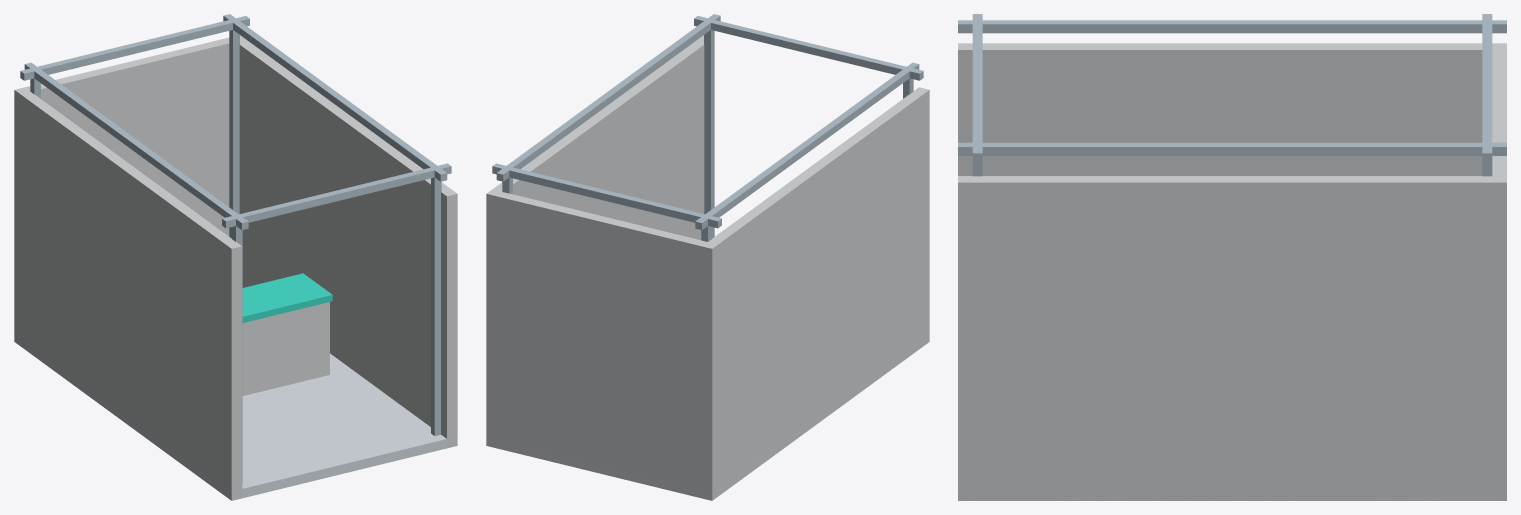
The picture shows the model from 3 angles, left to right: view 1: azimuth 30°, elevation 25°; view 2: azimuth 150°, elevation 25°; view 3: azimuth 270°, elevation 25°; orthographic projection. The views are drawn at different scales.
Parts seen in each view (by area): view 1: Exhibition Booth Concept; view 2: Exhibition Booth Concept; view 3: Exhibition Booth Concept.
Boxes of the visible parts, <box> form: Exhibition Booth Concept: <box>14,14,457,500</box>; Exhibition Booth Concept: <box>486,14,929,500</box>; Exhibition Booth Concept: <box>958,14,1506,500</box>.
Size of the model in its own units: 3 by 3.49 by 5.
